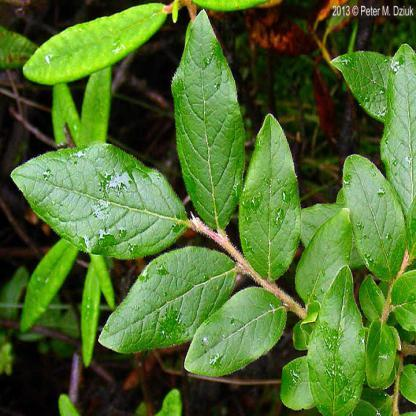Blueberry leaf: (10, 138, 192, 254), (164, 6, 248, 236), (94, 245, 244, 354), (236, 102, 302, 283), (306, 249, 374, 415), (336, 144, 410, 290), (178, 289, 296, 375), (291, 185, 348, 306)
